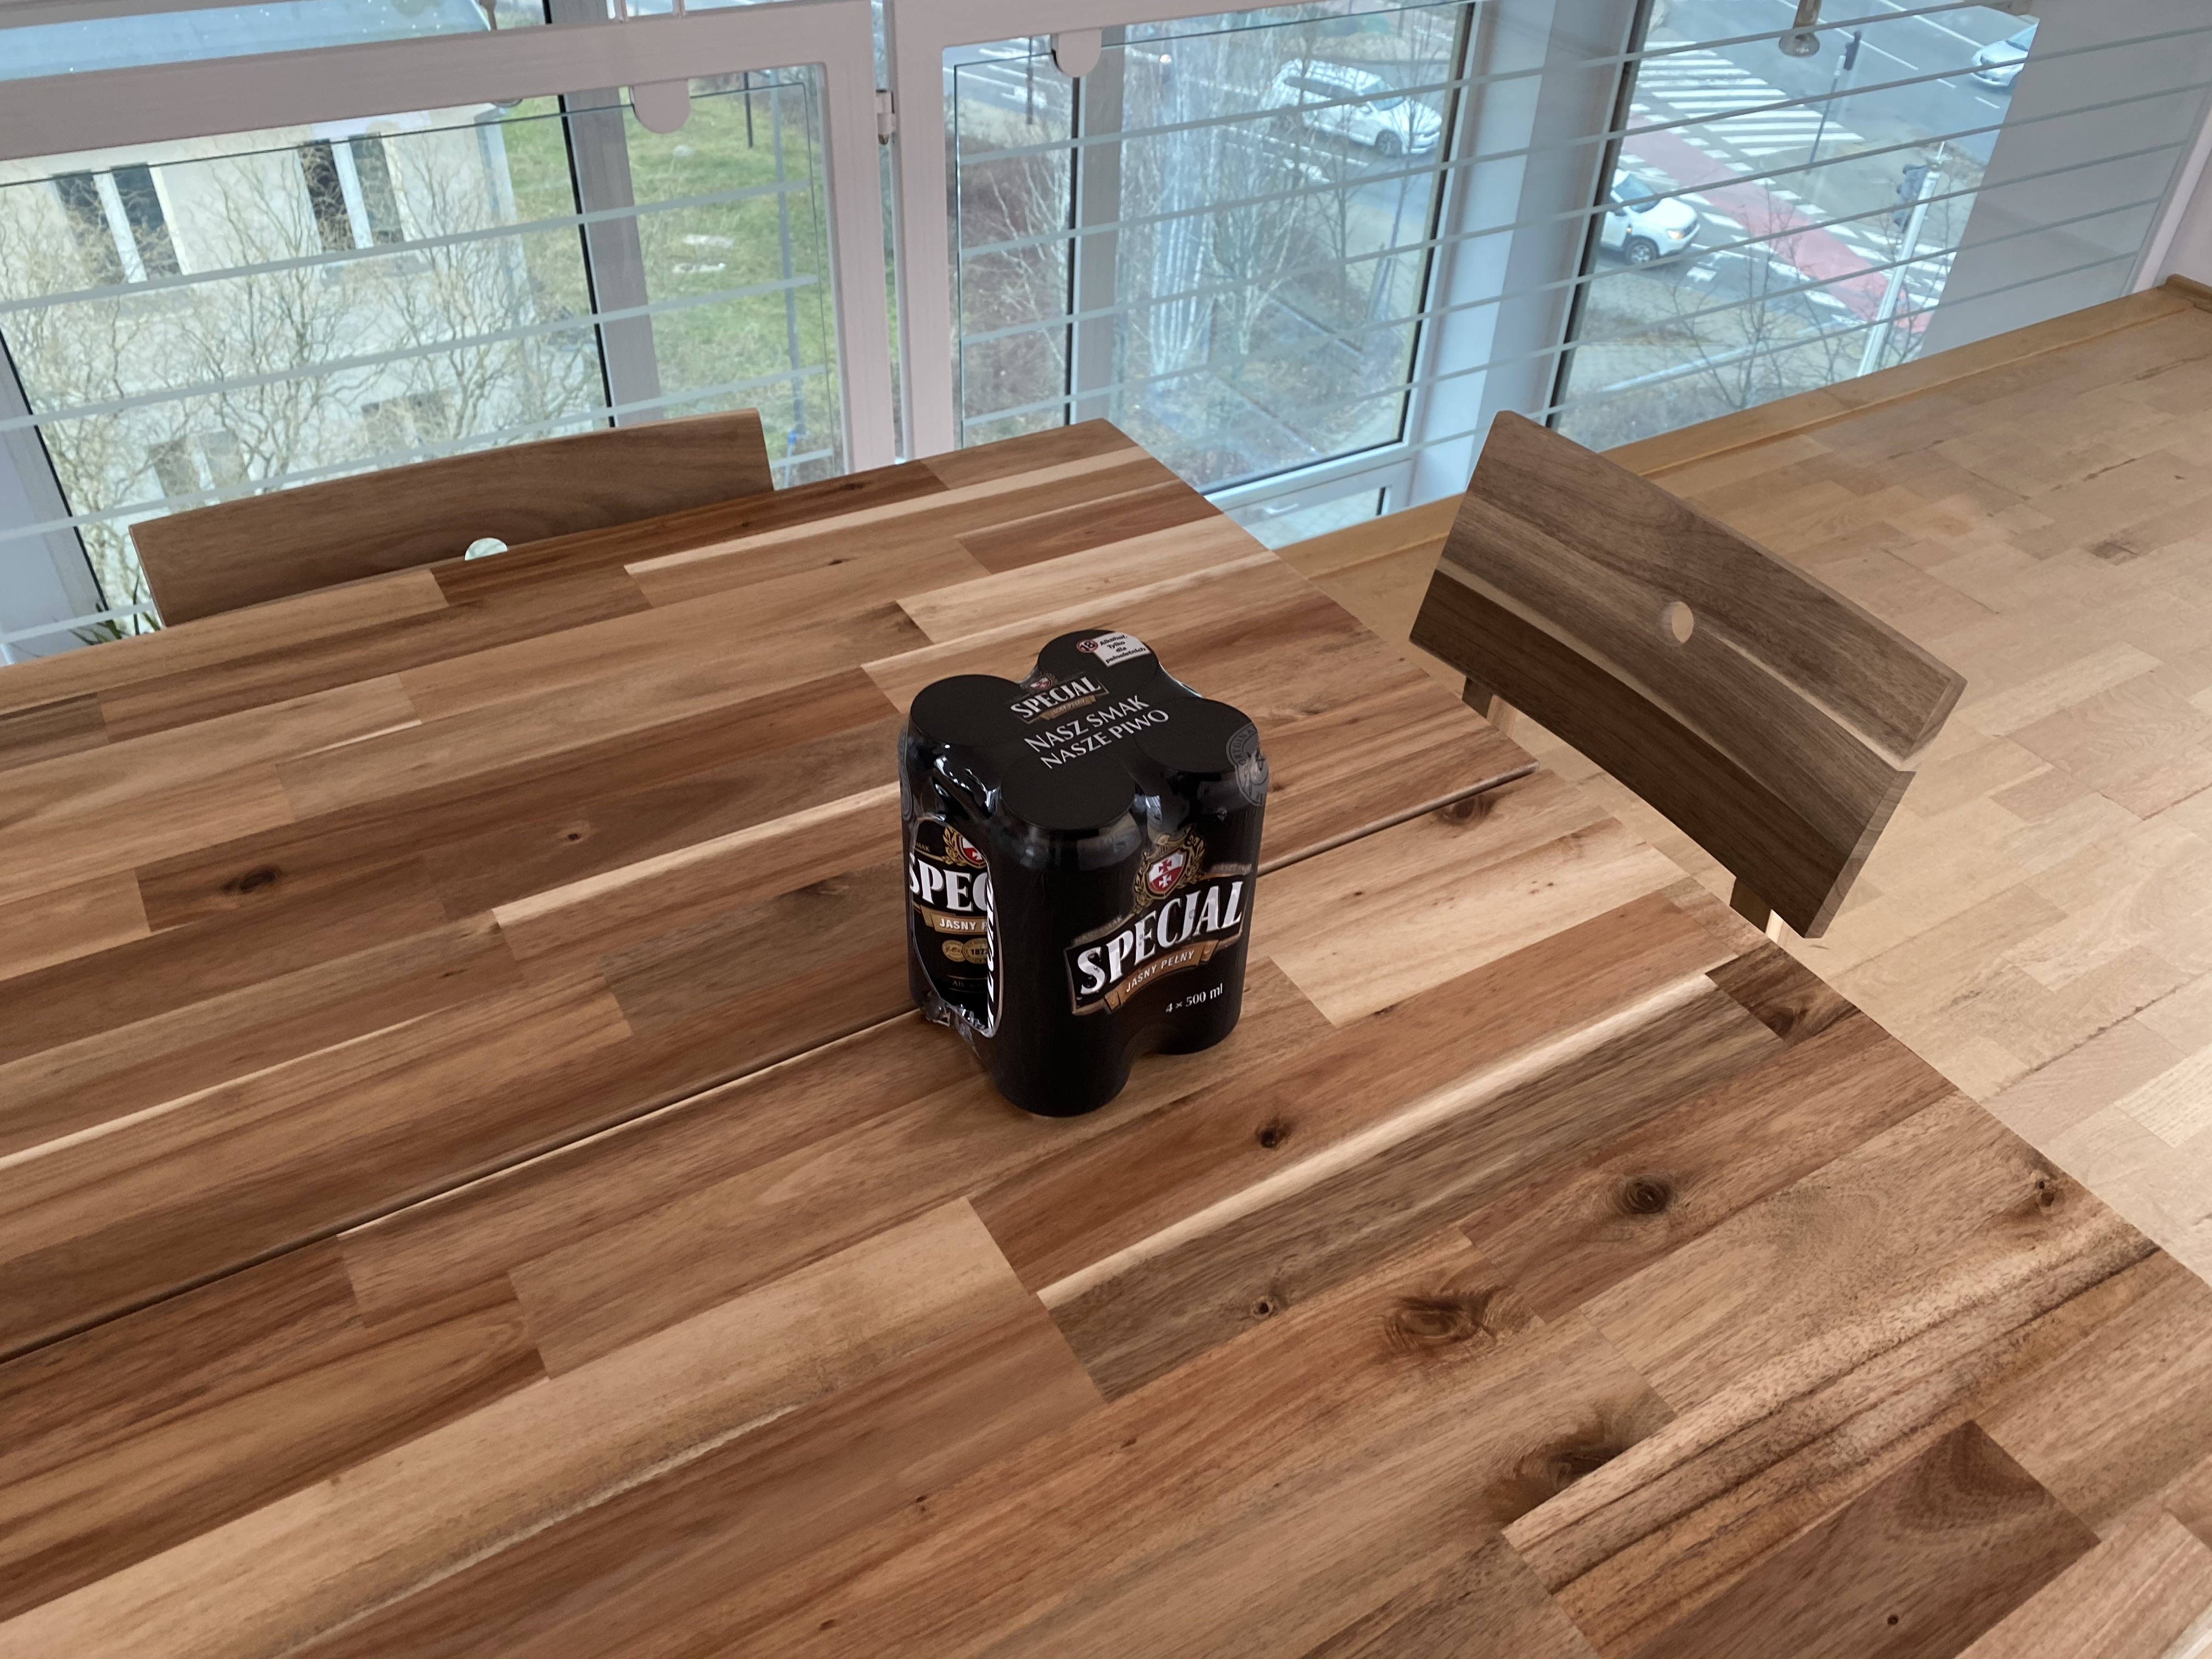specjal: (897, 626, 1266, 1121)
